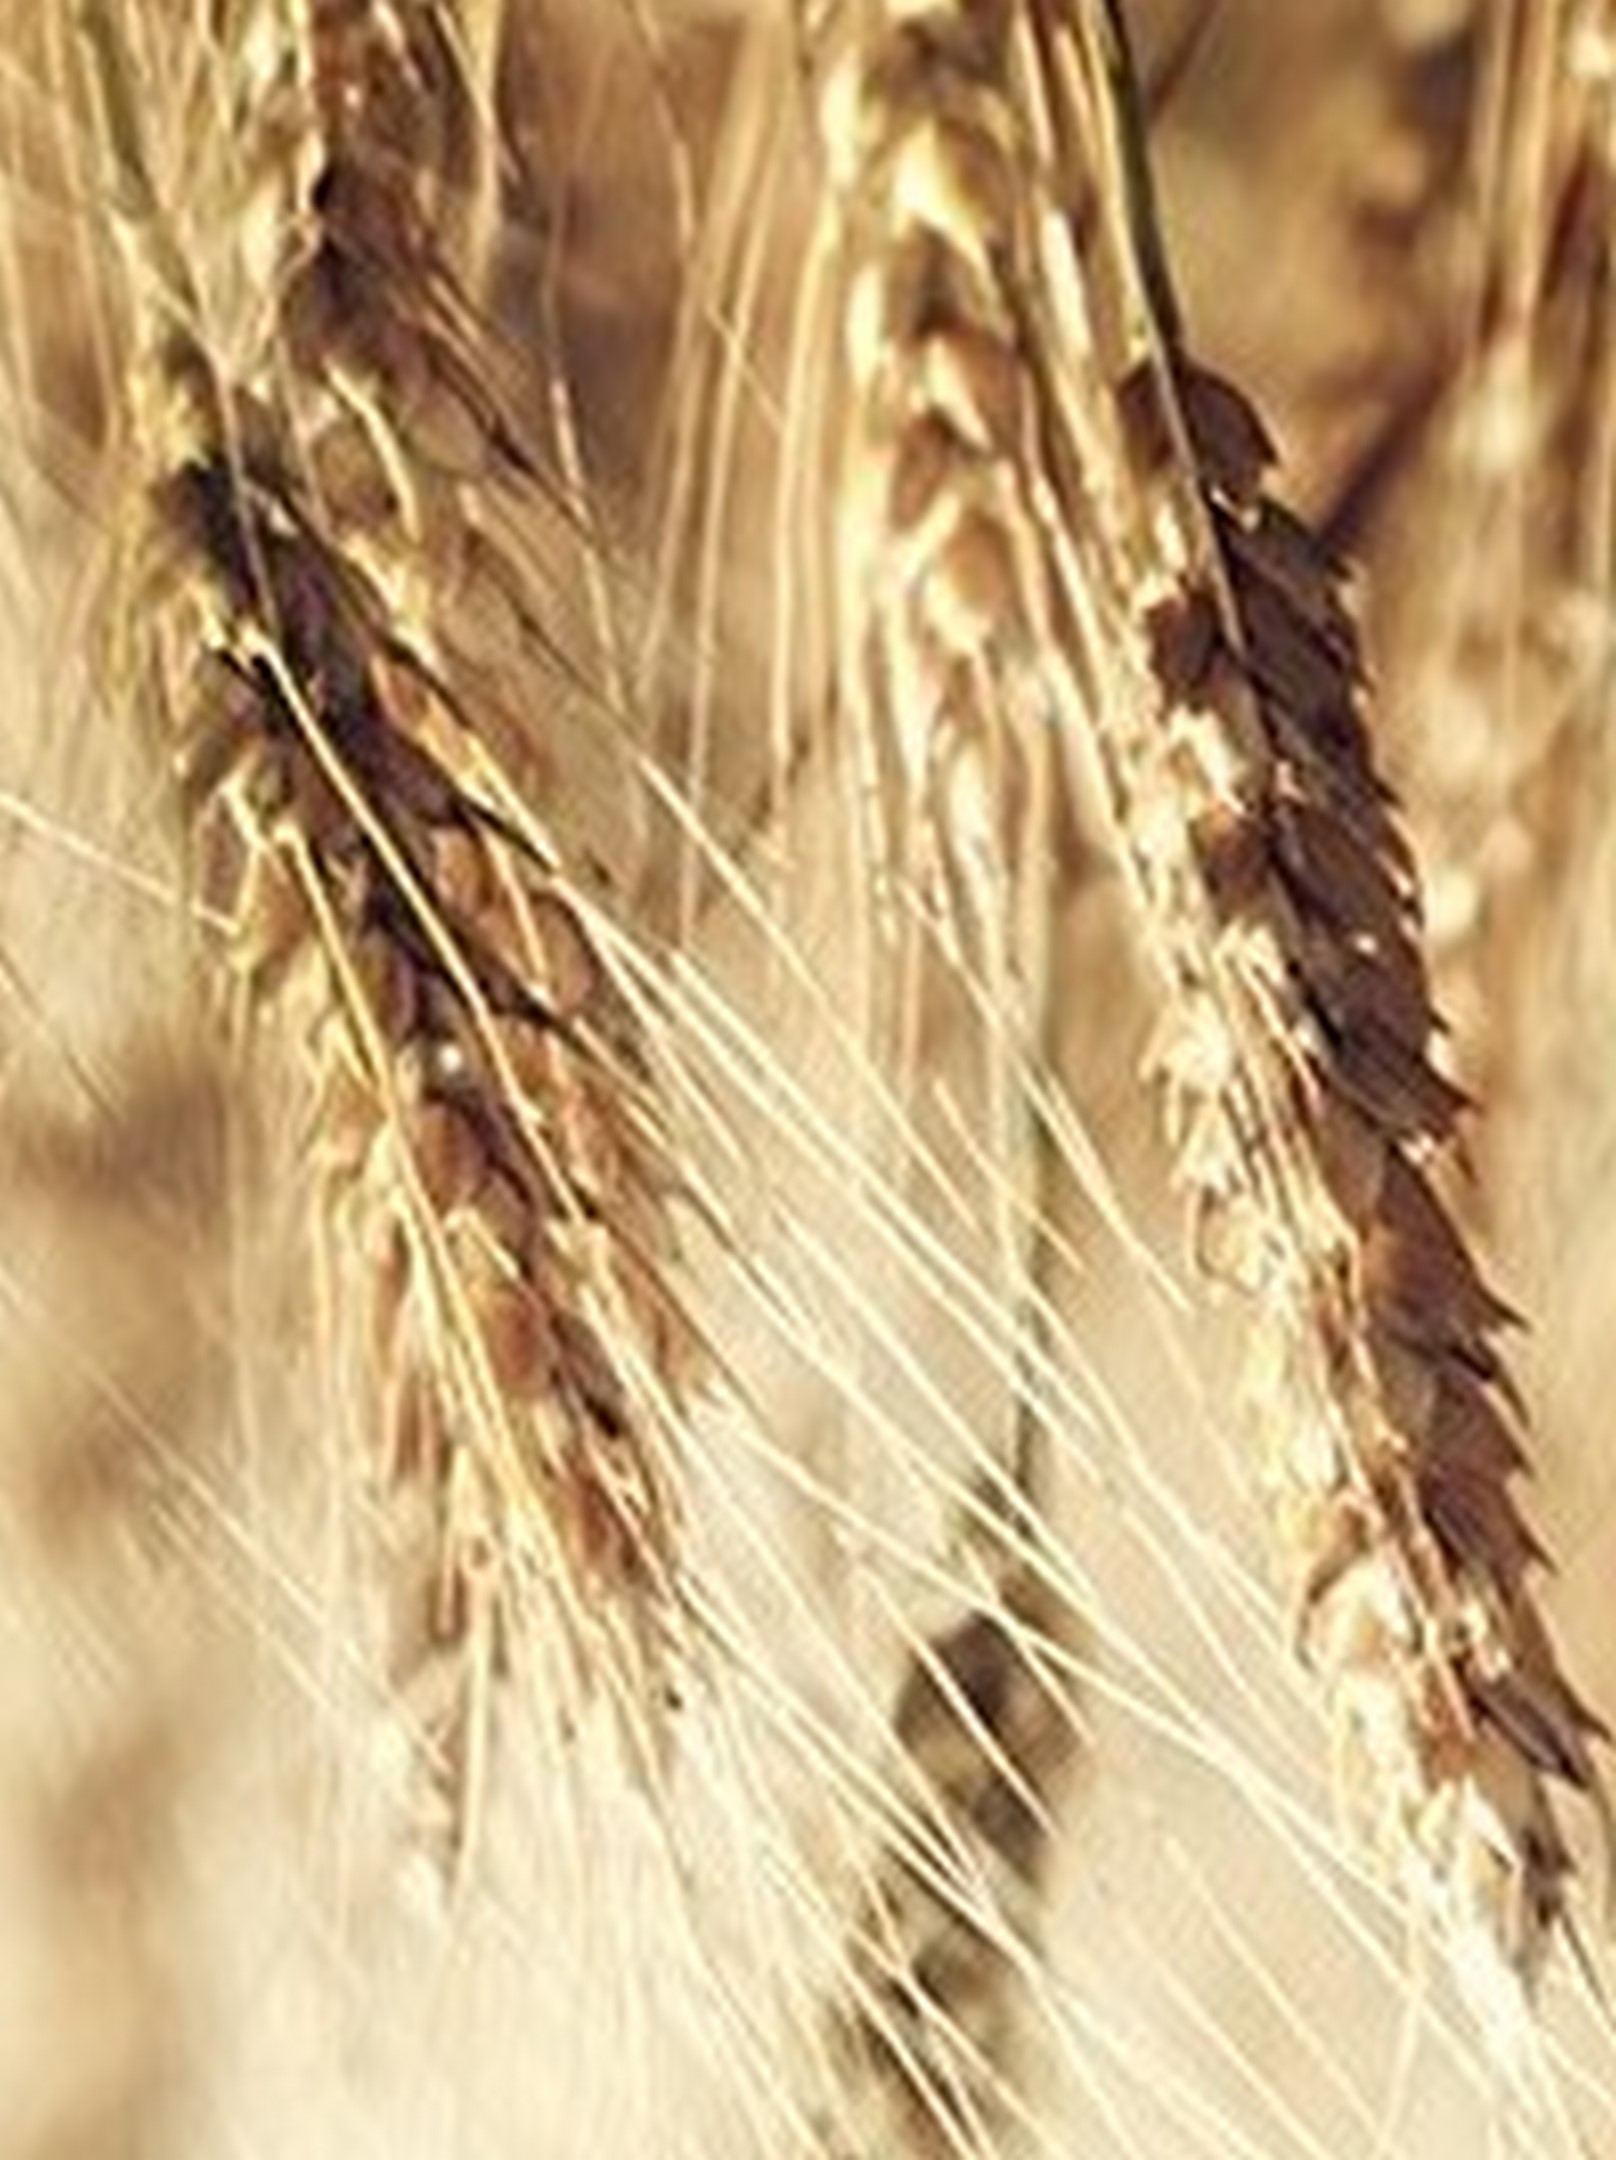Healthy Wheat: (1098, 363, 1616, 1987)
